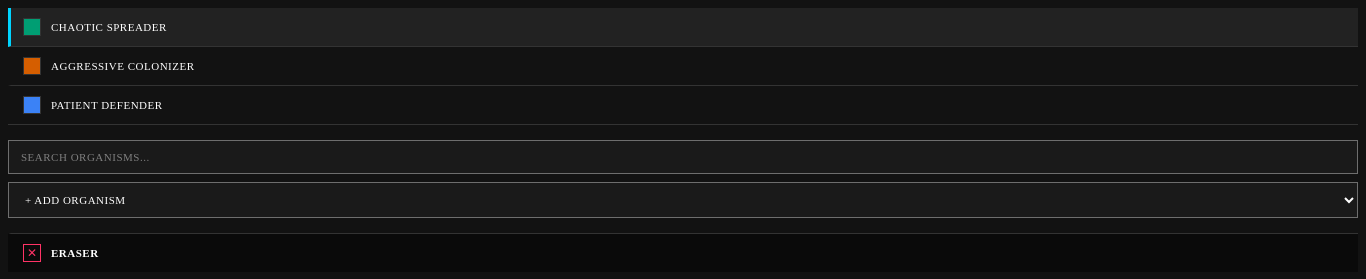
Test: OrganismRoster — the add control (AC1, AC2, AC3, AC5, AC8) › states that the search matched nothing, keeping the search box rendered
In the field labelled "SEARCH ORGANISMS...": (683, 157) [8,140,1358,174], type "zzz-no-match"
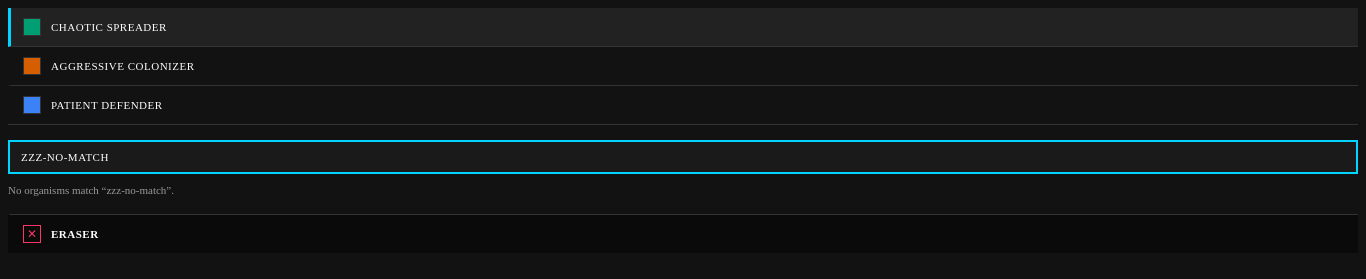
Expected: the dropdown is gone
Expected: the text "No organisms match “zzz-no-match”." is shown, [8,184,174,196]
